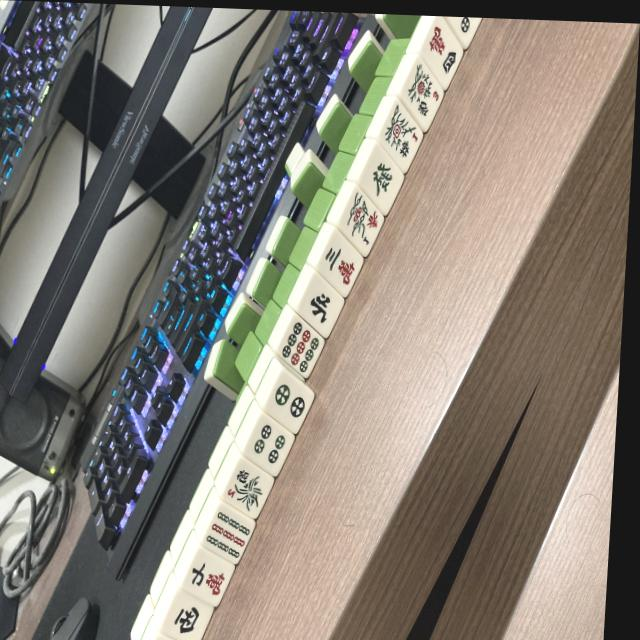1F: (372, 99, 426, 173)
1S: (336, 187, 387, 257)
2D: (259, 367, 317, 436)
2F: (218, 457, 276, 521)
3C: (311, 229, 366, 299)
3F: (394, 57, 447, 131)
4C: (415, 17, 468, 92)
4D: (237, 412, 296, 478)
7C: (178, 547, 238, 609)
9B: (197, 505, 255, 567)
9D: (271, 314, 327, 383)
GD: (353, 145, 407, 217)
NW: (292, 272, 348, 339)
WW: (157, 589, 214, 640)
